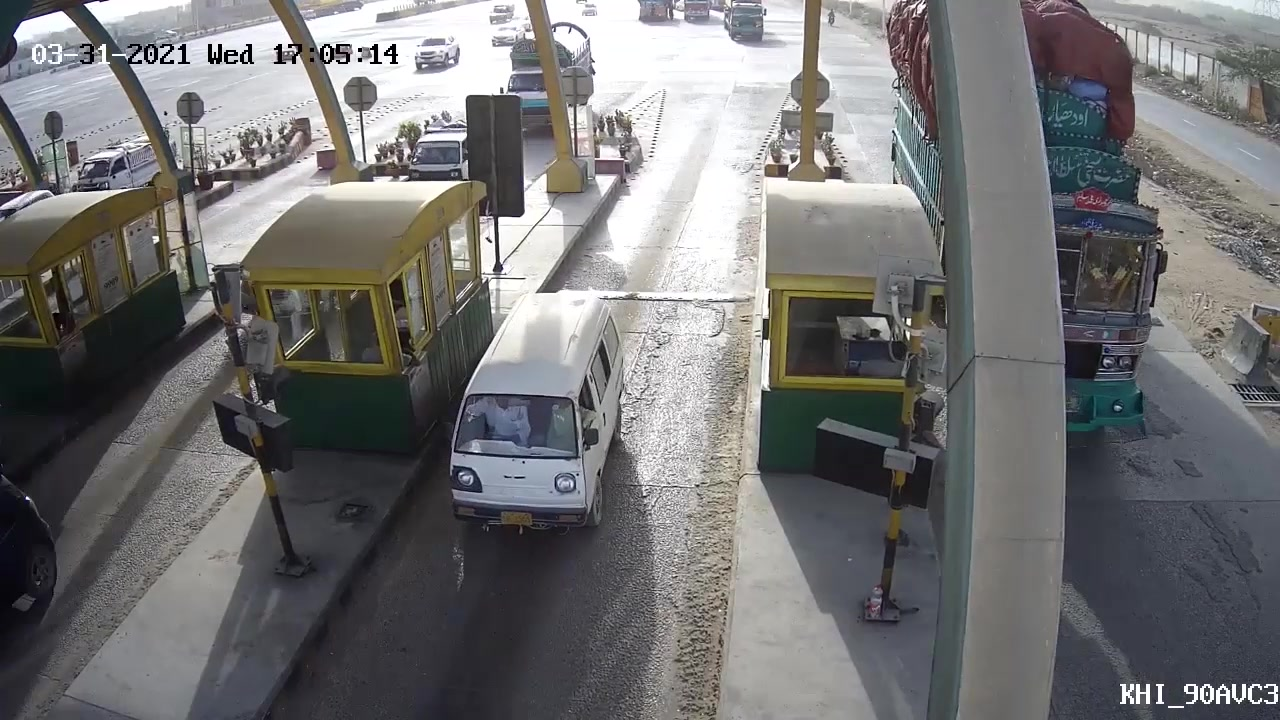F1: (427, 277, 633, 544)
